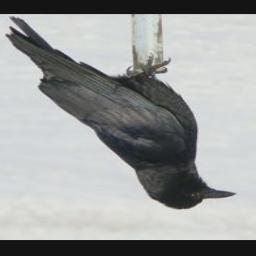Crow: (5, 16, 240, 211)
